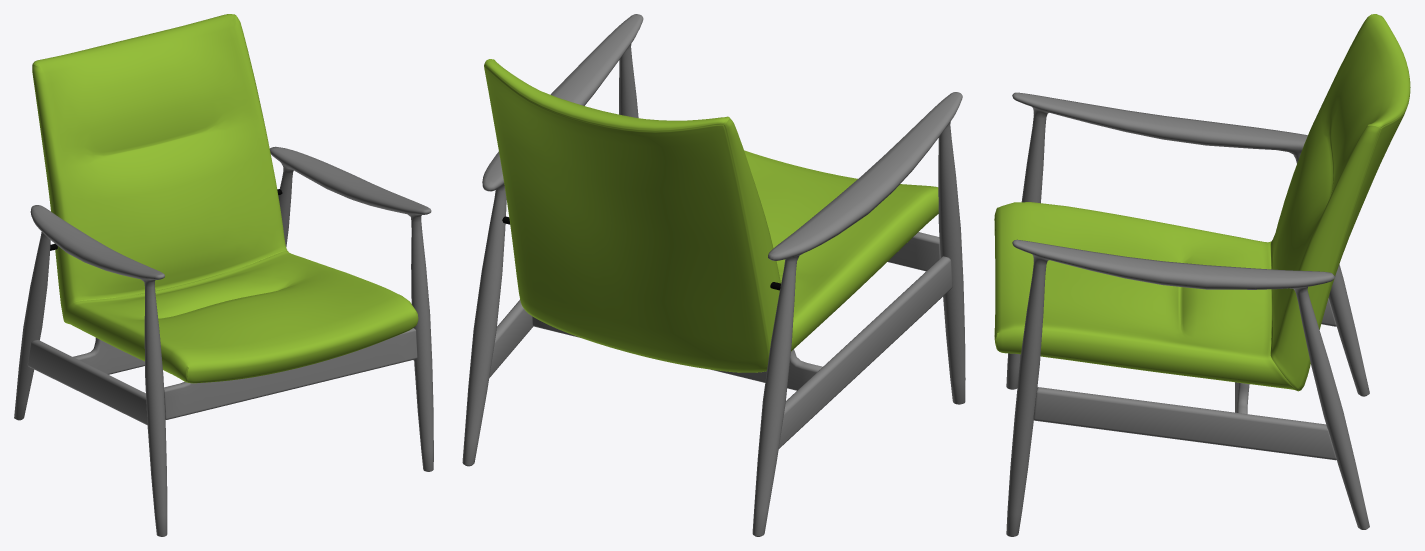
The model's file is ARCH_RitzwellRivageEasy.FBX.
3 views of the same model, side by side, from view 1: azimuth 30°, elevation 25°; view 2: azimuth 150°, elevation 25°; view 3: azimuth 270°, elevation 25° (orthographic). The views are drawn at different scales.
Parts seen in each view (by area): view 1: ARCH_RitzwellRivageEasy; view 2: ARCH_RitzwellRivageEasy; view 3: ARCH_RitzwellRivageEasy.
Part boxes in pixels (bbox=[...]): ARCH_RitzwellRivageEasy: bbox=[14, 14, 433, 536]; ARCH_RitzwellRivageEasy: bbox=[462, 14, 965, 536]; ARCH_RitzwellRivageEasy: bbox=[994, 14, 1410, 536].
Bounding box in the file's own units: 69.18 × 78.42 × 75.29.
